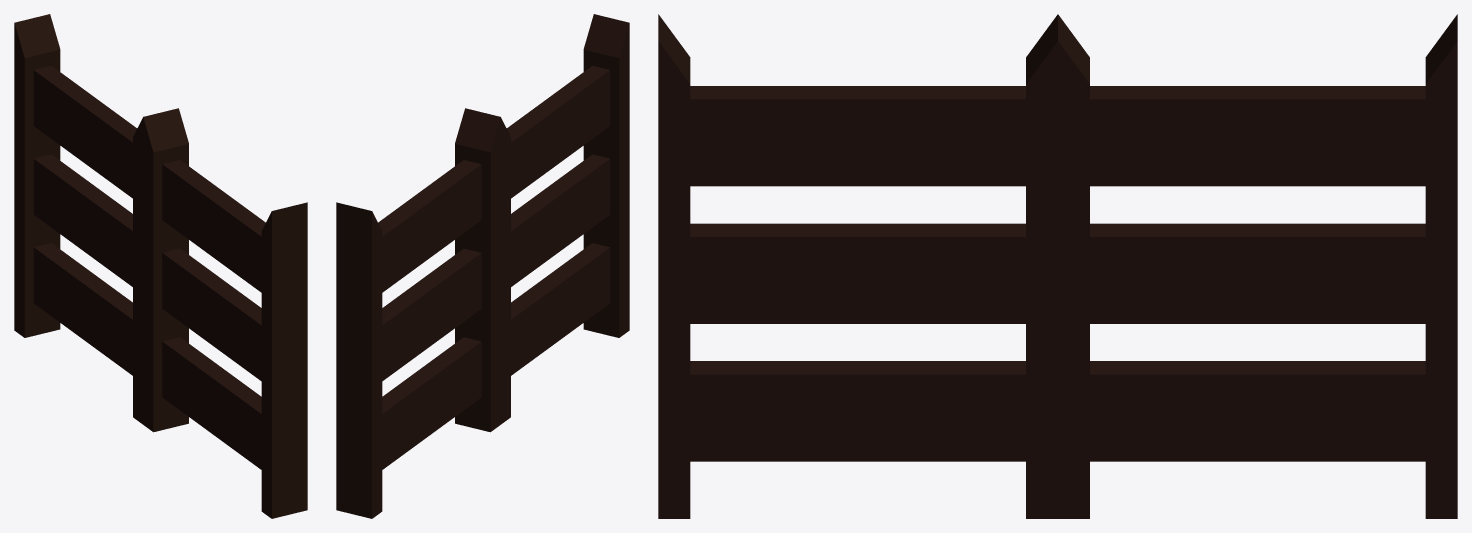
Rendered from h-004_fence_2.5_01_F.FBX.
3 views of the same model, side by side, from view 1: azimuth 30°, elevation 25°; view 2: azimuth 150°, elevation 25°; view 3: azimuth 270°, elevation 25° (orthographic). The views are drawn at different scales.
Visible parts, largest first — view 1: h-004_fence_2.5_01; view 2: h-004_fence_2.5_01; view 3: h-004_fence_2.5_01.
Boxes of the visible parts, left/top/right/bottom form: h-004_fence_2.5_01: left=14, top=14, right=307, bottom=518; h-004_fence_2.5_01: left=336, top=14, right=629, bottom=518; h-004_fence_2.5_01: left=658, top=14, right=1457, bottom=518.
Bounding box in the file's own units: 2 × 16.5 × 25.
